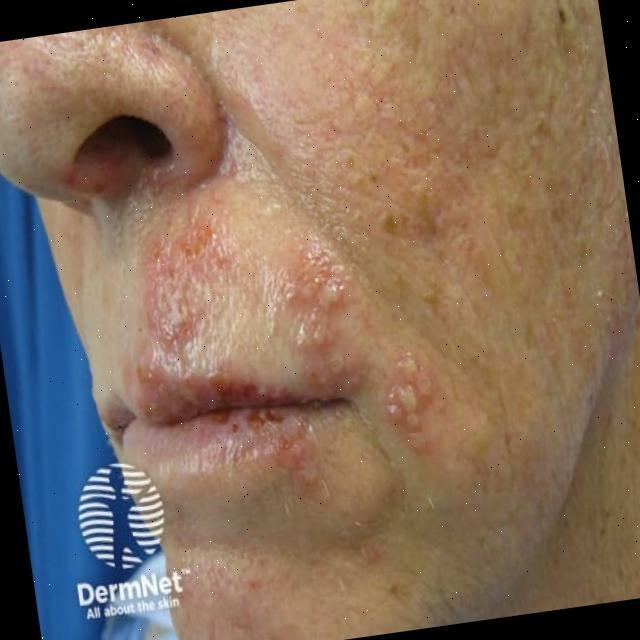Shingles: (130, 212, 432, 496)
